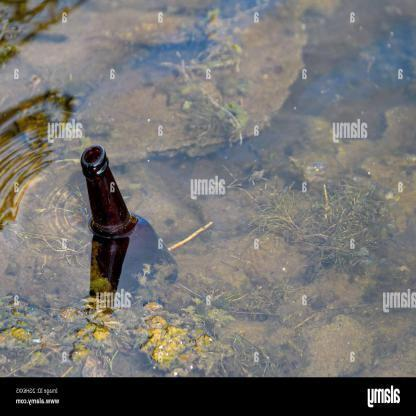Glass: (78, 143, 159, 271)
